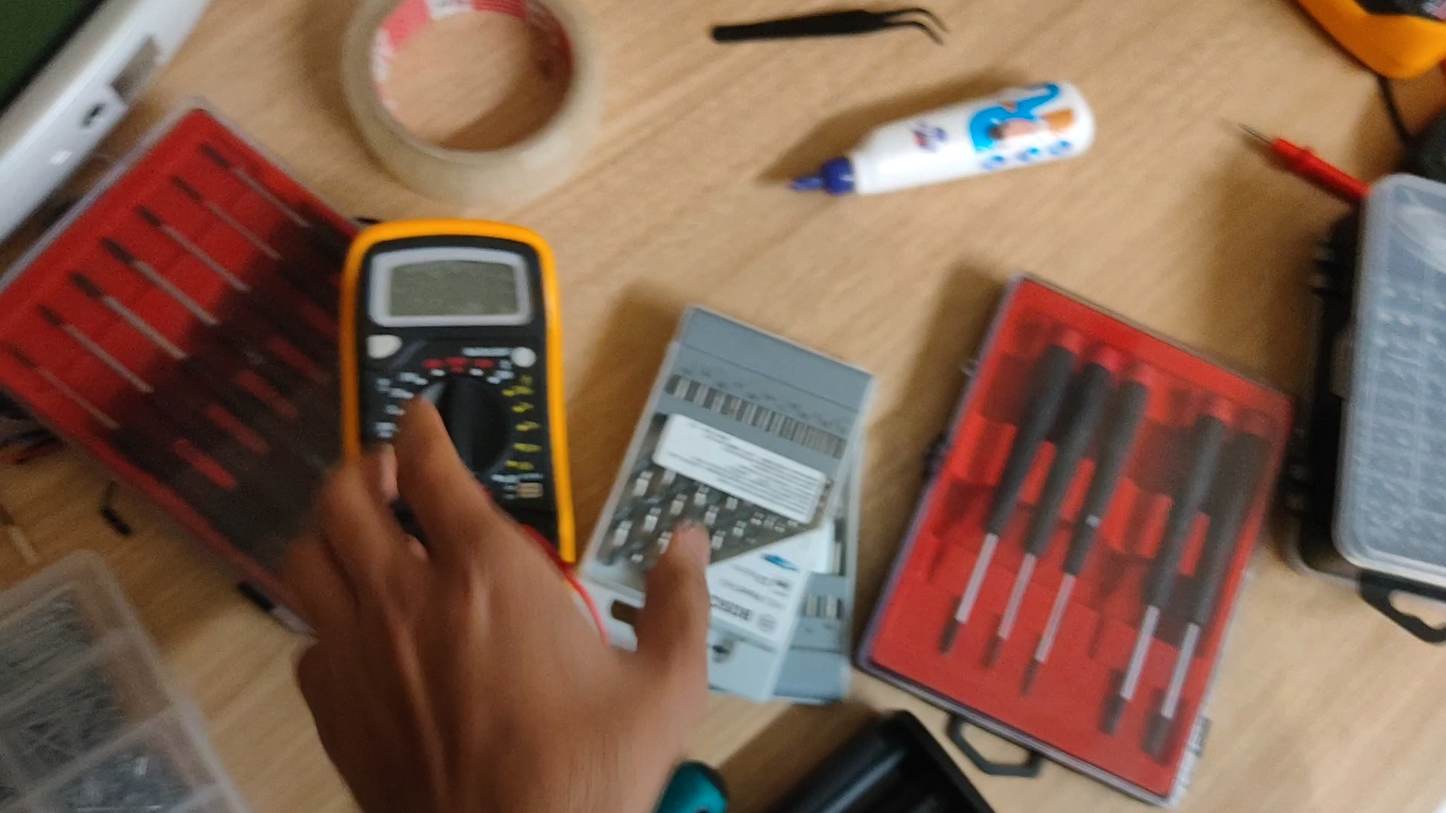multimeter: (340, 233, 575, 561)
